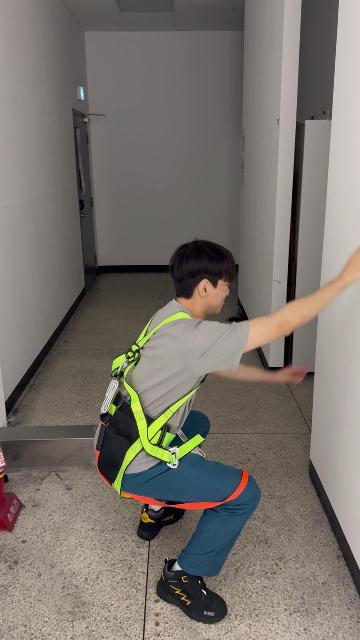helmet_not_worn: (169, 238, 237, 311)
shoe_worn: (157, 561, 227, 626), (137, 503, 185, 540)
vest_worn: (95, 311, 219, 498)
